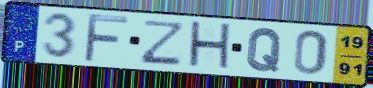0: (291, 28, 331, 78)
3: (41, 11, 80, 61)
F: (82, 12, 131, 64)
H: (186, 19, 233, 73)
Q: (244, 26, 285, 73)
Z: (138, 18, 188, 67)
